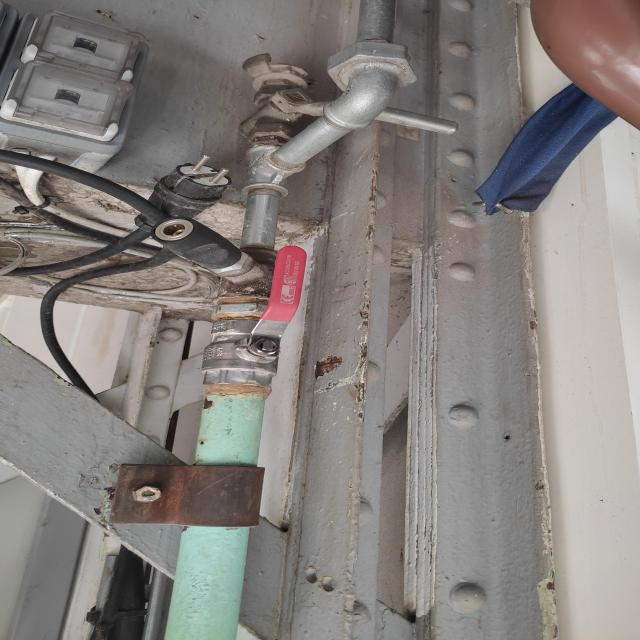opened_valve: (194, 242, 308, 384)
